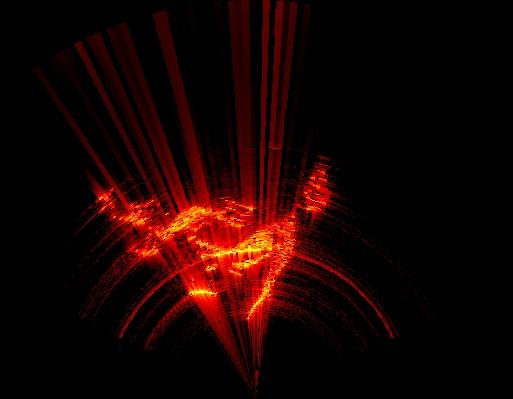shipwreck: (201, 216, 295, 318), (120, 203, 169, 258), (164, 206, 227, 237), (225, 201, 256, 225), (309, 169, 325, 212), (188, 283, 217, 294), (196, 242, 214, 253)
